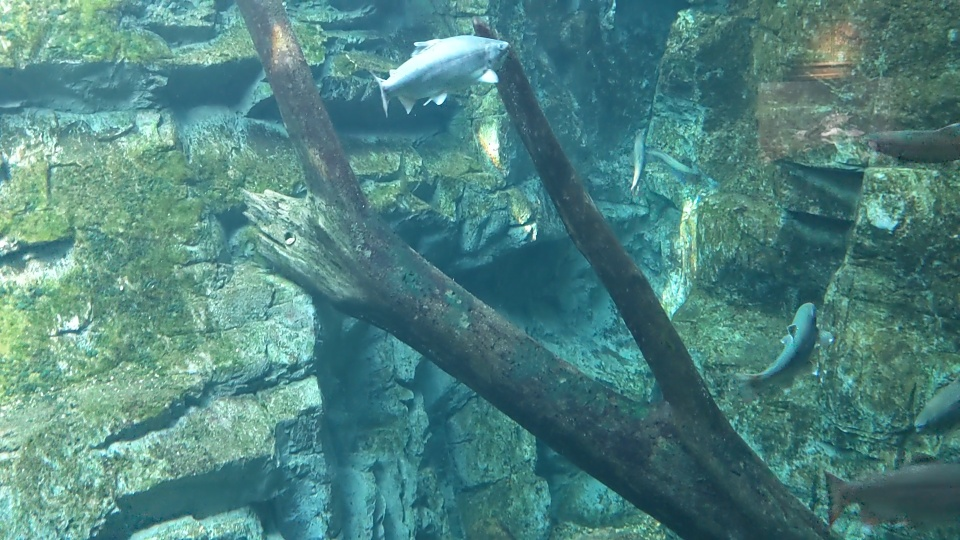Fish: (820, 460, 960, 532), (379, 38, 512, 94), (753, 302, 816, 397), (866, 111, 960, 161), (645, 138, 707, 188), (919, 368, 960, 435), (634, 123, 646, 192)
